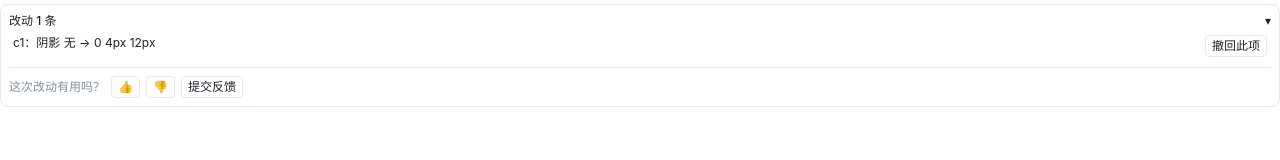
it: 反馈闭环（T51 批2） › 选了 👍 才出现原因选择与提交按钮
Click the button with test id "feedback-up": (126, 87) [111,76,140,98]
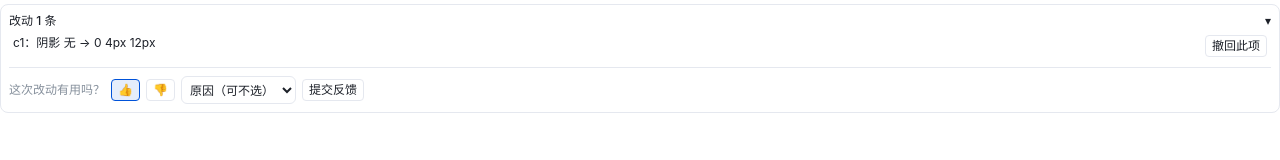
Expected: the button with test id "feedback-submit" is shown, [302,79,364,101]
Expected: the dropdown with test id "feedback-category" is shown, [181,76,296,104]
